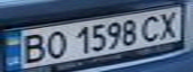1: (72, 24, 93, 55)
5: (90, 20, 109, 52)
8: (118, 16, 142, 46)
9: (106, 19, 124, 49)
B: (15, 32, 51, 65)
C: (136, 12, 166, 43)
O: (39, 28, 69, 60)
X: (154, 8, 184, 39)
